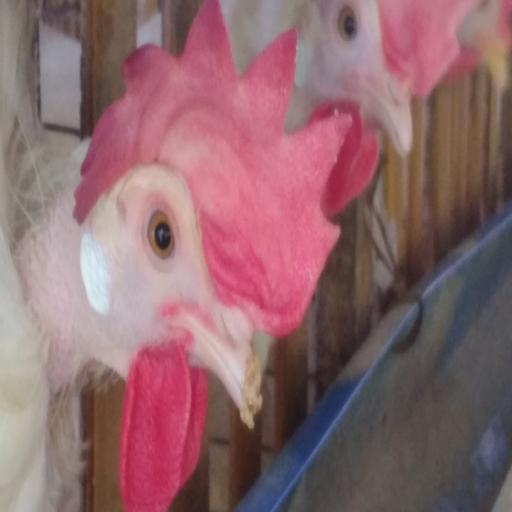healthy: (74, 94, 233, 414)
